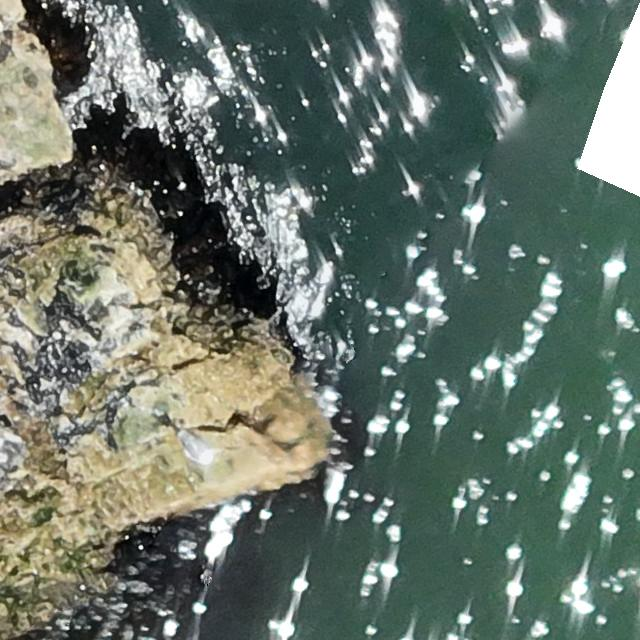umineko: (177, 429, 214, 464)
